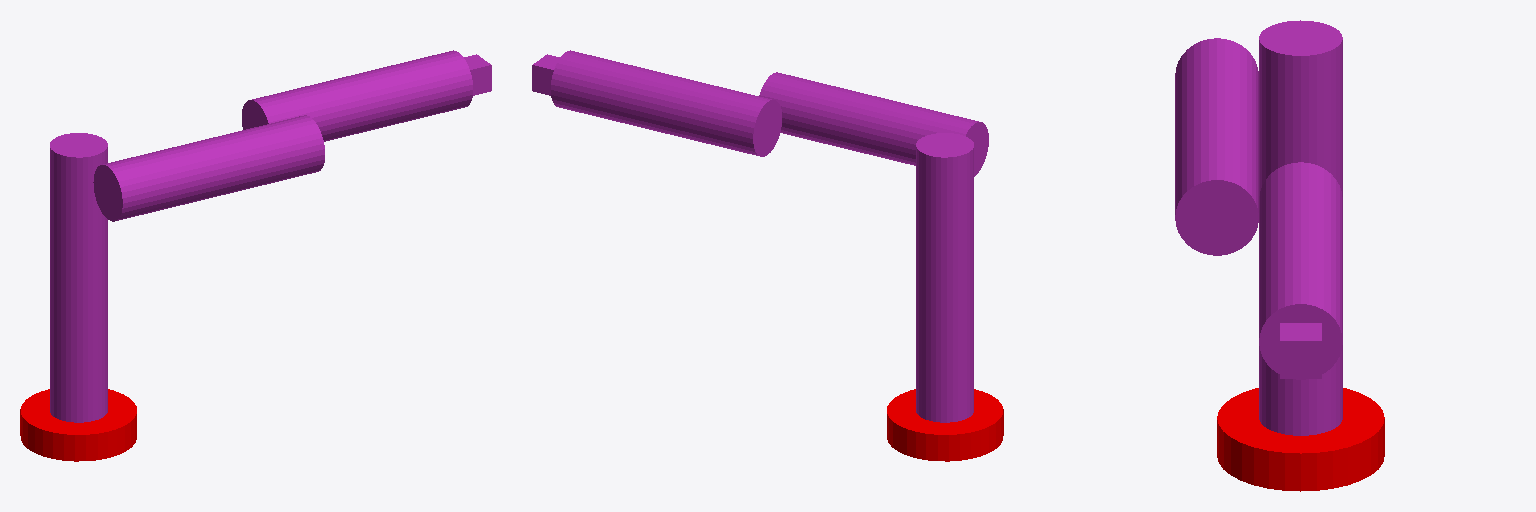
URDF robot description (bazu):
<?xml version="1.0" ?>
<robot name="bazu" xmlns:xacro="http://ros.org/wiki/xacro">

    <link name="world">
    </link>

    <link name="base_link">
        <inertial>
            <origin xyz="0.0 0.0 0.025" rpy="0.0 0.0 0.0"/>
            <mass value="5.0"/>
            <inertia ixx="0.0135" ixy="0.0" ixz="0.0" iyy="0.0135" iyz="0.0" izz="0.025"/>
        </inertial>
        <visual >
            <origin xyz="0.0 0.0 0.025" rpy="0.0 0.0 0.0"/>
            <geometry>
                <cylinder radius="0.1" length="0.05"/>
            </geometry>
            <material name="">
                <color rgba="1.0 0.0 0.0 1.0"/>
            </material>
        </visual>
        <collision>
            <origin xyz="0.0 0.0 0.025" rpy="0.0 0.0 0.0"/>
            <geometry>
                <cylinder radius="0.1" length="0.05"/>
            </geometry>
        </collision>
    </link>

    <joint name="joint_base" type="fixed">
        <origin xyz="0.0 0.0 0.0" rpy="0.0 0.0 0.0"/>
        <parent link="world"/>
        <child link="base_link"/>
        <axis xyz="0.0 0.0 0.0"/>
        <limit lower="0.0" upper="0.0" effort="0.0" velocity="0.0"/>
    </joint>   

    <link name="link_1">
        <inertial>
            <origin xyz="0.0 0.0 0.25" rpy="0.0 0.0 0.0"/>
            <mass value="5.0"/>
            <inertia ixx="0.1073" ixy="0.0" ixz="0.0" iyy="0.1073" iyz="0.0" izz="0.00625"/>
        </inertial>
        <visual>
            <origin xyz="0.0 0.0 0.25" rpy="0.0 0.0 0.0"/>
            <geometry>
                <cylinder radius="0.05" length="0.5"/>
            </geometry>
            <material name="">
                <color rgba="0.75 0.25 0.75 1.0"/>
            </material>
        </visual>
        <collision>
            <origin xyz="0.0 0.0 0.25" rpy="0.0 0.0 0.0"/>
            <geometry>
                <cylinder radius="0.05" length="0.5"/>
            </geometry>
        </collision>
    </link>

    <joint name="joint_1" type="continuous">
        <origin xyz="0.0 0.0 0.05" rpy="0.0 0.0 0.0"/>
        <parent link="base_link"/>
        <child link="link_1"/>
        <axis xyz="0.0 0.0 1.0"/>
    </joint>

    <link name="link_2">
        <inertial>
            <origin xyz="0.0 0.0 0.2" rpy="0.0 0.0 0.0"/>
            <mass value="2.0"/>
            <inertia ixx="0.0279" ixy="0.0" ixz="0.0" iyy="0.0279" iyz="0.0" izz="0.0025"/>
        </inertial>
        <visual>
            <origin xyz="0.0 0.0 0.2" rpy="0.0 0.0 0.0"/>
            <geometry>
               <cylinder radius="0.05" length="0.4"/>
            </geometry>
            <material name="">
                <color rgba="0.75 0.25 0.75 1.0"/>
                <texture filename=""/>
            </material>
        </visual>
        <collision>
            <origin xyz="0.0 0.0 0.2" rpy="0.0 0.0 0.0"/>
            <geometry>
               <cylinder radius="0.05" length="0.4"/>
            </geometry>
        </collision>
    </link>

    <joint name="joint_2" type="continuous">
        <axis xyz="0 1 0"/>
        <parent link="link_1"/>
        <child link="link_2"/>
        <origin rpy="0 1.5708 0" xyz="0.0 -0.1 0.45"/>
    </joint>

    <link name="link_3">
        <inertial>
            <origin xyz="0.0 0.0 0.2" rpy="0.0 0.0 0.0"/>
            <mass value="2.0"/>
            <inertia ixx="0.0279" ixy="0.0" ixz="0.0" iyy="0.0279" iyz="0.0" izz="0.0025"/>
        </inertial>
        <visual>
            <origin xyz="0.0 0.0 0.2" rpy="0.0 0.0 0.0"/>
            <geometry>
               <cylinder radius="0.05" length="0.4"/>
            </geometry>
            <material name="">
                <color rgba="0.75 0.25 0.75 1.0"/>
                <texture filename=""/>
            </material>
        </visual>
        <collision>
            <origin xyz="0.0 0.0 0.2" rpy="0.0 0.0 0.0"/>
             <geometry>
               <cylinder radius="0.05" length="0.4"/>
            </geometry>
        </collision>
    </link>

    <joint name="joint_3" type="continuous">
        <axis xyz="0 1 0"/>
        <parent link="link_2"/>
        <child link="link_3"/>
        <origin rpy="0 0 0" xyz="0.0 0.1 0.35"/>
    </joint>

    <link name="link_4">
        <inertial>
            <origin xyz="0.0 0.0 0.025" rpy="0.0 0.0 0.0"/>
            <mass value="1.0"/>
            <inertia ixx="0.00417" ixy="0.0" ixz="0.0" iyy="0.00417" iyz="0.0" izz="0.00417"/>
        </inertial>
        <visual>
            <origin xyz="0.0 0.0 0.025" rpy="0.0 0.0 0.0"/>
            <geometry>
               <box size="0.05 0.05 0.05"/>
            </geometry>
            <material name="">
                <color rgba="0.75 0.25 0.75 1.0"/>
                <texture filename=""/>
            </material>
        </visual>
        <collision>
            <origin xyz="0.0 0.0 0.025" rpy="0.0 0.0 0.0"/>
             <geometry>
               <box size="0.05 0.05 0.05"/>
            </geometry>
        </collision>
    </link>

    <joint name="joint_4" type="continuous">
        <axis xyz="0 0 1"/>
        <parent link="link_3"/>
        <child link="link_4"/>
        <origin rpy="0 0 0" xyz="0.0 0 0.4"/>
    </joint>

    <transmission name ="trans_1">
    <type>transmission_interface/SimpleTransmission</type>
    <joint name="joint_1">
        <hardwareInterface>hardware_interface/PositionJointInterface</hardwareInterface>
    </joint>
    <actuator name="motor_1">
        <hardwareInterface>hardware_interface/PositionJointInterface</hardwareInterface>
        <mechanicalReduction>1</mechanicalReduction>
    </actuator>
</transmission>

<transmission name ="trans_2">
    <type>transmission_interface/SimpleTransmission</type>
    <joint name="joint_2">
        <hardwareInterface>hardware_interface/PositionJointInterface</hardwareInterface>
    </joint>
    <actuator name="motor_2">
        <hardwareInterface>hardware_interface/PositionJointInterface</hardwareInterface>
        <mechanicalReduction>1</mechanicalReduction>
    </actuator>
</transmission>

<transmission name ="trans_3">
    <type>transmission_interface/SimpleTransmission</type>
    <joint name="joint_3">
        <hardwareInterface>hardware_interface/PositionJointInterface</hardwareInterface>
    </joint>
    <actuator name="motor_3">
        <hardwareInterface>hardware_interface/PositionJointInterface</hardwareInterface>
        <mechanicalReduction>1</mechanicalReduction>
    </actuator>
</transmission>

<transmission name ="trans_4">
    <type>transmission_interface/SimpleTransmission</type>
    <joint name="joint_4">
        <hardwareInterface>hardware_interface/PositionJointInterface</hardwareInterface>
    </joint>
    <actuator name="motor_4">
        <hardwareInterface>hardware_interface/PositionJointInterface</hardwareInterface>
        <mechanicalReduction>1</mechanicalReduction>
    </actuator>
</transmission>

<gazebo>
    <plugin name="control" filename="libgazebo_ros_control.so">
    <robotSimType> gazebo_ros_control/DefaultRobotHWSim </robotSimType>
    <legacyModeNS>true</legacyModeNS>
    </plugin>
    
</gazebo>

<gazebo reference="base_link">
    <material>Gazebo/Black</material>
</gazebo>
<gazebo reference="link_1">
    <material>Gazebo/Grey</material>
</gazebo>
<gazebo reference="link_2">
    <material>Gazebo/Orange</material>
</gazebo>
<gazebo reference="link_3">
    <material>Gazebo/Black</material>
</gazebo>
<gazebo reference="link_4">
    <material>Gazebo/Yellow</material>
</gazebo>

</robot>

--- Facts derived from the render (not from the file) ---
Views: 3 orthographic renders of the robot side by side, from view 1: azimuth 30°, elevation 25°; view 2: azimuth 150°, elevation 25°; view 3: azimuth 270°, elevation 25°.
Model bazu with 6 links and 5 joints (4 continuous, 1 fixed), rooted at world, posed all joints at 0.
Links seen in each view (by area): view 1: link_1, link_2, link_3, base_link, link_4; view 2: link_1, link_3, link_2, base_link, link_4; view 3: link_1, link_2, link_3, base_link, link_4.
Boxes of the visible links, bbox=[...] form: link_1: bbox=[50, 133, 107, 422]; link_2: bbox=[93, 115, 324, 221]; link_3: bbox=[242, 50, 472, 141]; base_link: bbox=[20, 389, 136, 461]; link_4: bbox=[464, 54, 491, 95]; link_1: bbox=[916, 133, 973, 422]; link_3: bbox=[551, 50, 781, 156]; link_2: bbox=[759, 72, 988, 176]; base_link: bbox=[887, 389, 1003, 461]; link_4: bbox=[532, 54, 559, 95]; link_1: bbox=[1259, 20, 1342, 435]; link_2: bbox=[1175, 38, 1258, 255]; link_3: bbox=[1259, 162, 1342, 379]; base_link: bbox=[1217, 388, 1384, 491]; link_4: bbox=[1280, 323, 1321, 378].
Size in the robot's own frame: 0.9 by 0.25 by 0.55 metres.
Geometry: primitives only (box / cylinder / sphere), no mesh files.
